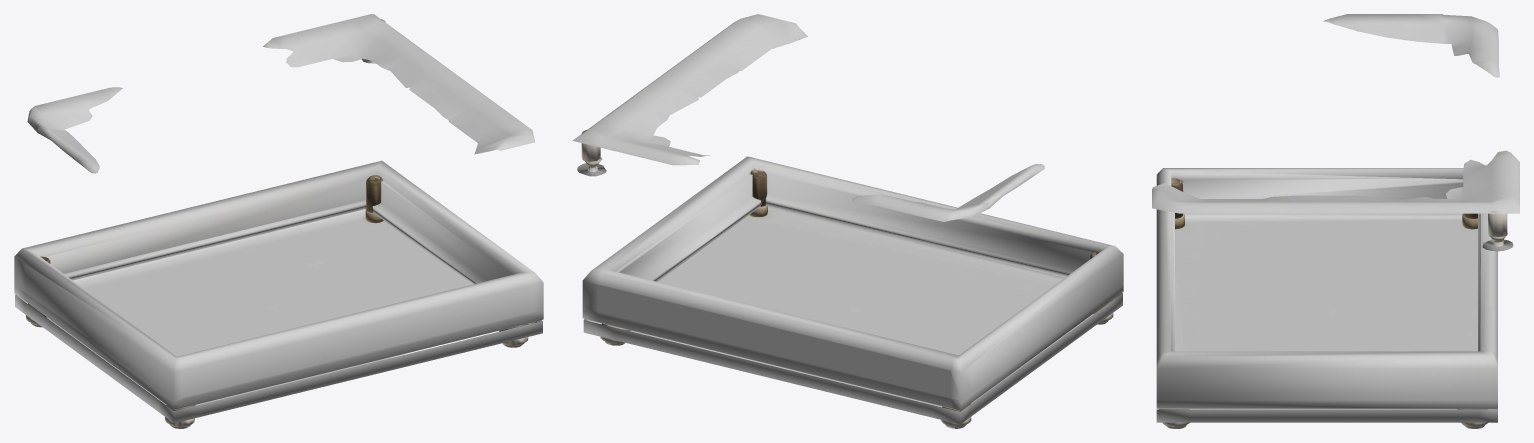
The model's file is asset_pack_item_glb-vd75nctc66ayy4vqeqfqd5j39n8bfe21-2-ks73cktb5saa43xygfhpkhbdn98beqwa.glb.
The picture shows the model from 3 angles, left to right: view 1: azimuth 30°, elevation 25°; view 2: azimuth 150°, elevation 25°; view 3: azimuth 270°, elevation 25°; orthographic projection. The views are drawn at different scales.
Visible parts, largest first — view 1: Clear Acrylic; view 2: Clear Acrylic; view 3: Clear Acrylic.
Part boxes in pixels (x1=…): Clear Acrylic: x1=14, y1=14, x2=543, y2=428; Clear Acrylic: x1=572, y1=14, x2=1123, y2=428; Clear Acrylic: x1=1152, y1=14, x2=1519, y2=428.
Size of the model in its own units: 0.998 by 0.5371 by 0.7871.
1 material, 1 textured.
